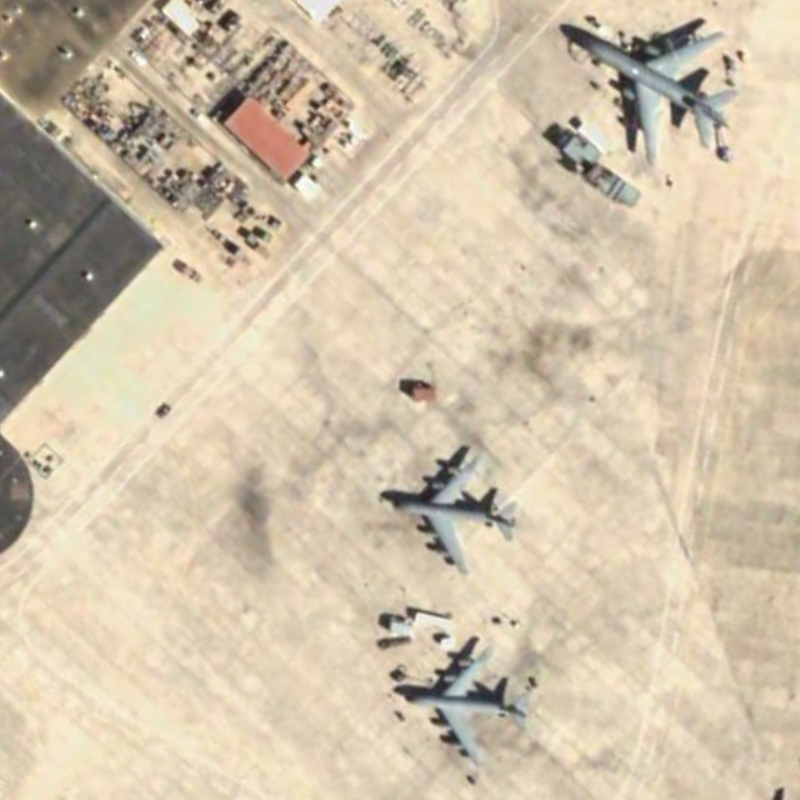A14: (374, 444, 519, 582), (399, 637, 536, 773)
A18: (554, 9, 749, 173)
